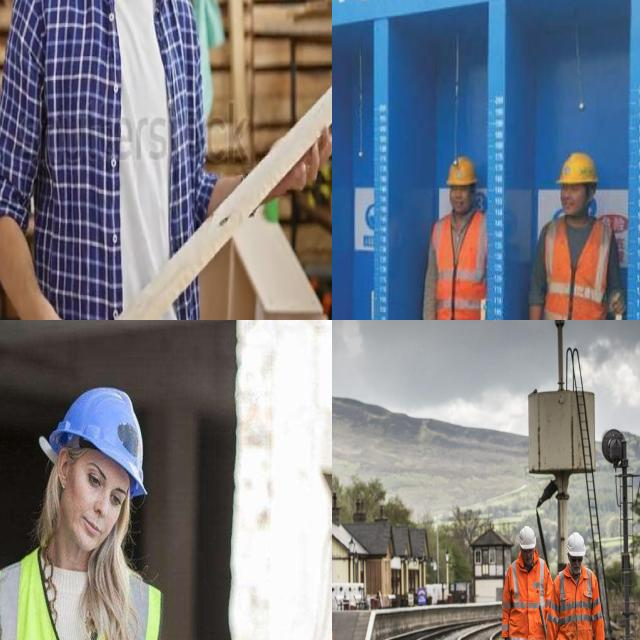No_Ear-Protection: (54, 444, 74, 495)
No_Glasses: (80, 458, 124, 513)
face_nomask: (65, 449, 132, 553), (553, 185, 591, 216), (442, 182, 473, 220), (568, 552, 584, 572), (522, 547, 535, 568)
glasses: (521, 548, 534, 556), (570, 556, 584, 563)
head_helmet: (51, 386, 149, 499), (549, 150, 597, 183), (437, 153, 481, 186), (566, 531, 586, 558), (518, 525, 537, 551)
person: (0, 0, 212, 320), (0, 378, 198, 640), (526, 146, 627, 320), (407, 155, 491, 320), (500, 525, 553, 640), (551, 533, 607, 640)
vest: (0, 551, 163, 640), (421, 215, 502, 320), (539, 224, 620, 320), (551, 565, 604, 640), (505, 559, 549, 640)
